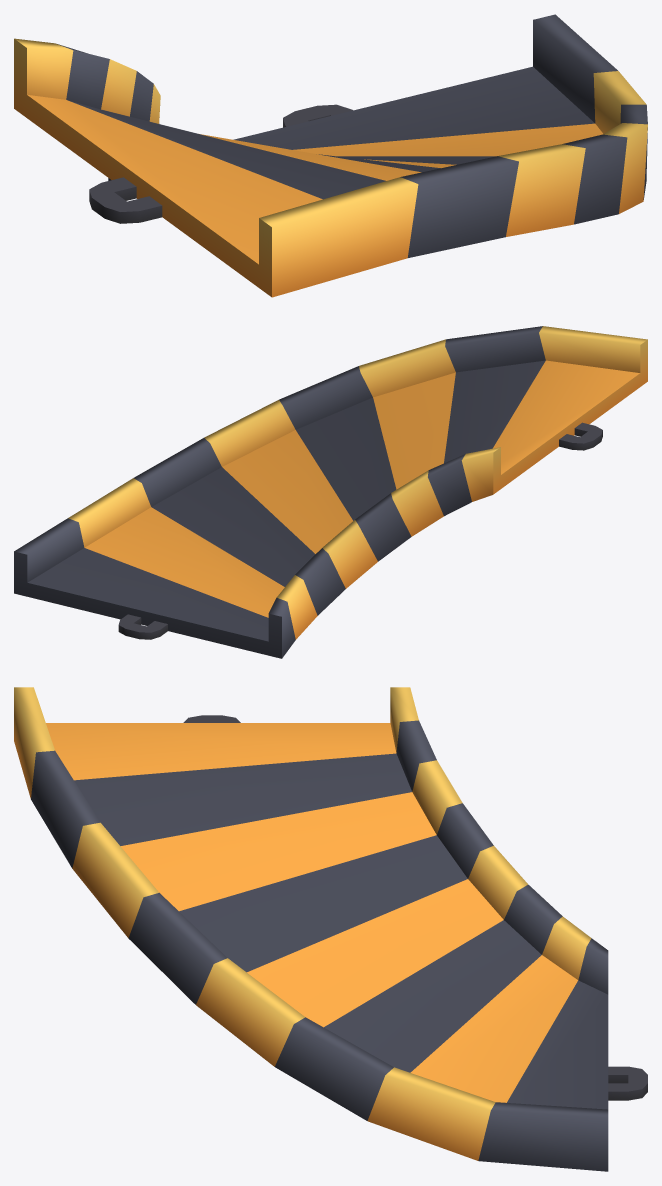
File: track-striped-wide-corner-small-ramp.fbx
The picture shows the model from 3 angles, top to bottom: view 1: azimuth 30°, elevation 25°; view 2: azimuth 150°, elevation 25°; view 3: azimuth 270°, elevation 25°; orthographic projection. The views are drawn at different scales.
Parts seen in each view (by area): view 1: track-striped-wide-corner-small-ramp; view 2: track-striped-wide-corner-small-ramp; view 3: track-striped-wide-corner-small-ramp.
Boxes of the visible parts, <box> form: track-striped-wide-corner-small-ramp: <box>14,14,647,297</box>; track-striped-wide-corner-small-ramp: <box>14,326,647,658</box>; track-striped-wide-corner-small-ramp: <box>14,687,647,1171</box>.
Size of the model in its own units: 320 by 130 by 320.
